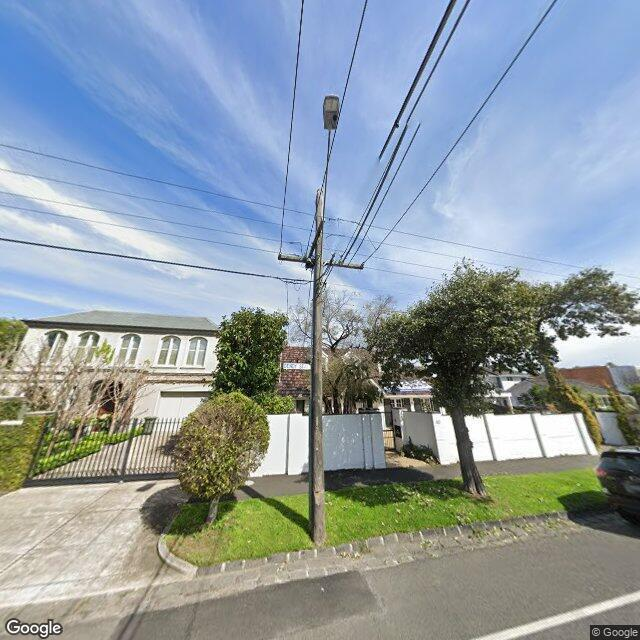crossarm: (309, 192, 325, 544), (278, 254, 364, 269), (308, 219, 324, 259)
streetlight: (317, 96, 340, 290)
